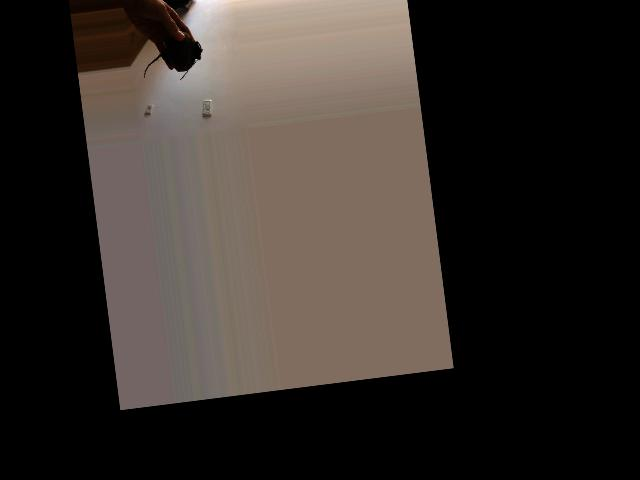beet: (138, 29, 205, 85)
